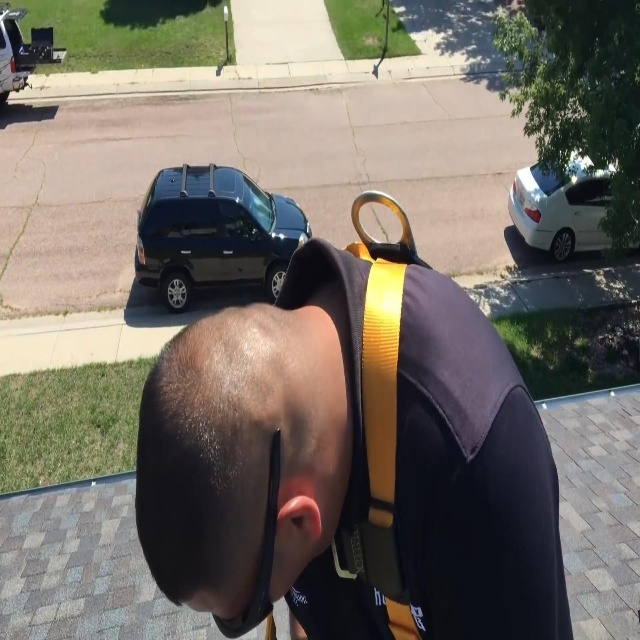Arnes_seguridad: (258, 163, 442, 640)
